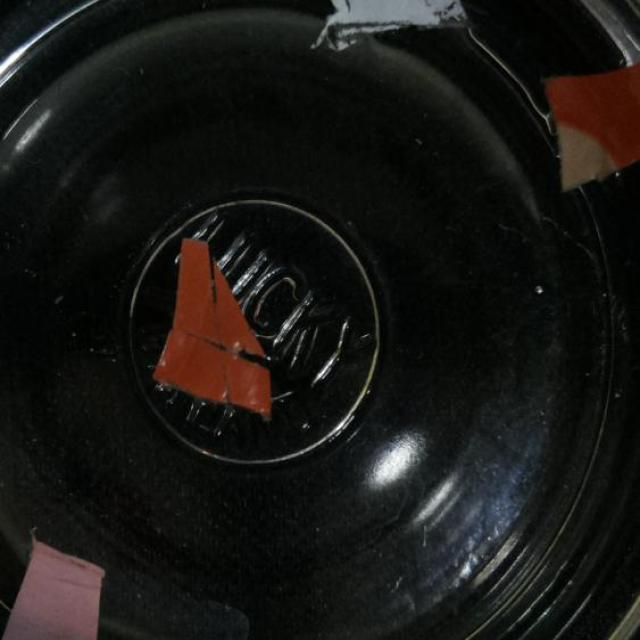fiber: (139, 225, 282, 416), (526, 46, 639, 182), (0, 533, 107, 639), (283, 0, 482, 45)
